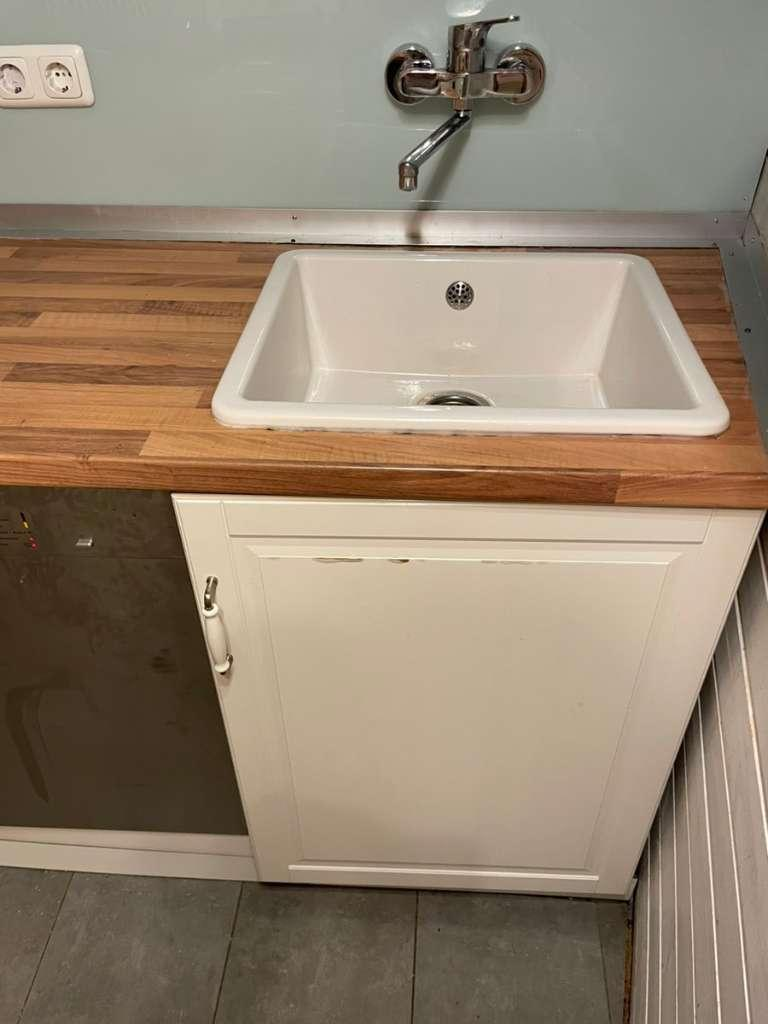cabinet_door: (195, 505, 675, 888)
handle: (190, 563, 245, 693)
